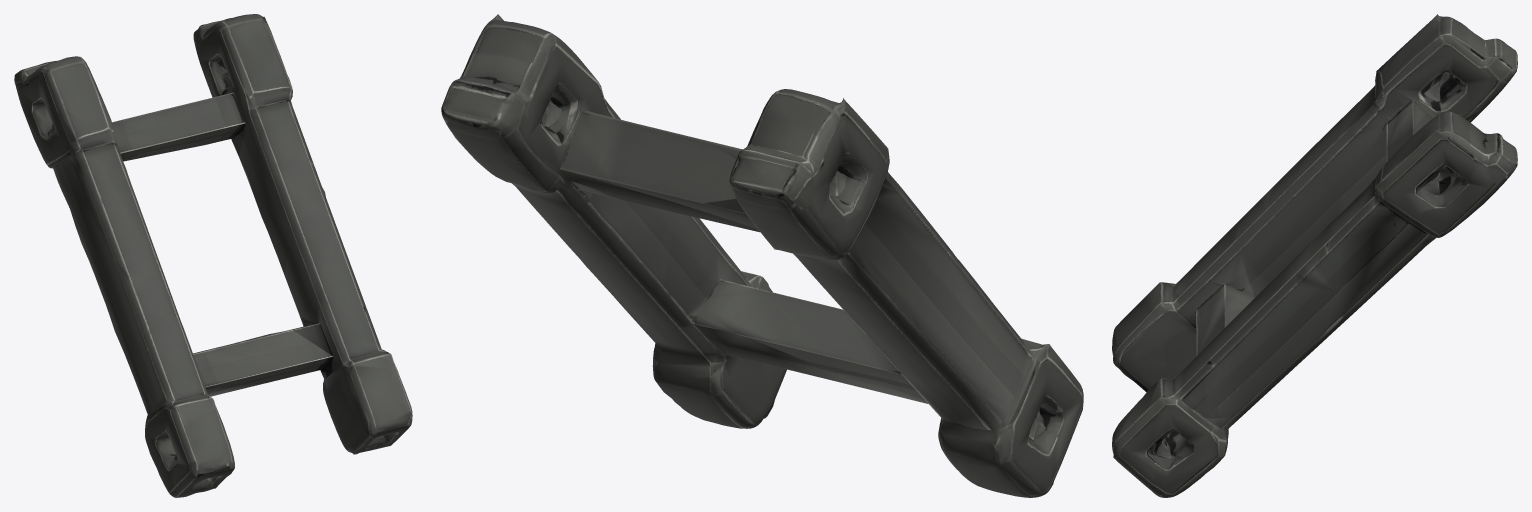
The model's file is 13_debris_bracket.fbx.
The picture shows the model from 3 angles, left to right: view 1: azimuth 30°, elevation 25°; view 2: azimuth 150°, elevation 25°; view 3: azimuth 270°, elevation 25°; orthographic projection. The views are drawn at different scales.
Visible parts, largest first — view 1: 13_debris_bracket; view 2: 13_debris_bracket; view 3: 13_debris_bracket.
Part boxes in pixels (left/top/right/bottom): 13_debris_bracket: left=14, top=14, right=412, bottom=497; 13_debris_bracket: left=441, top=14, right=1083, bottom=497; 13_debris_bracket: left=1112, top=14, right=1517, bottom=497.
Bounding box in the file's own units: 0.5528 × 0.8 × 0.7912.
1 material, 1 textured.
